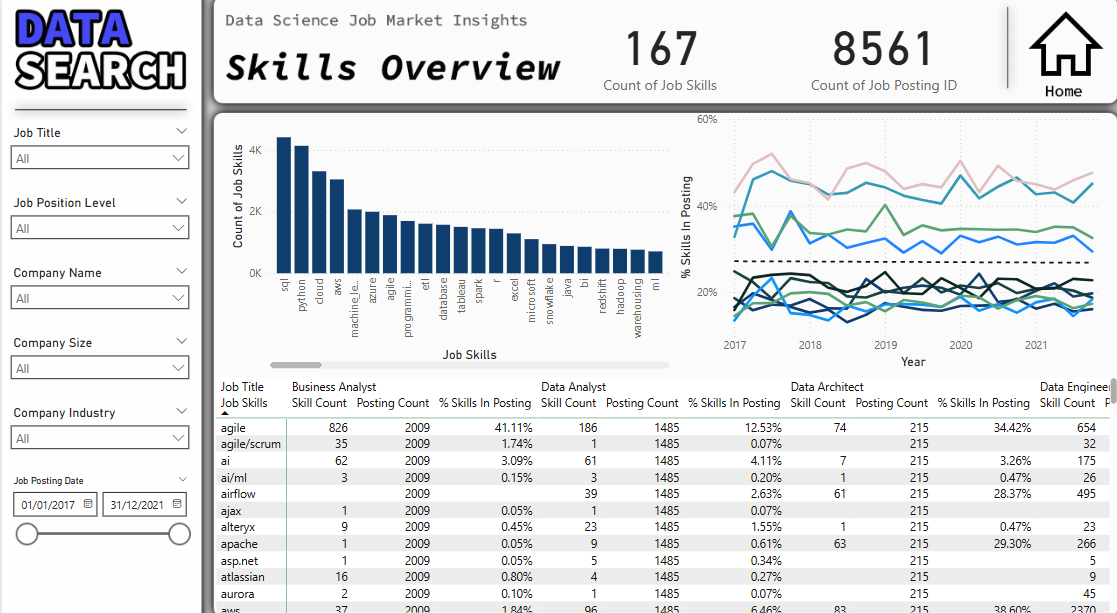

The page's visual inventory and layout, read from the dashboard file:
{"tool":"powerbi","page":{"name":"Skills","canvas":[1280,720],"ordinal":2},"visuals":[{"type":"slicer","fields":{"Values":["Job Postings.Job Title"]},"box":[0,144,224,80],"z":0},{"type":"slicer","fields":{"Values":["Job Postings.Job Position Level"]},"box":[0,224,224,80],"z":1},{"type":"slicer","fields":{"Values":["Job Postings.Company Name"]},"box":[0,304,224,80],"z":2},{"type":"slicer","fields":{"Values":["Job Postings.Company Size"]},"box":[0,384,224,80],"z":3},{"type":"slicer","fields":{"Values":["Job Postings.Company Industry"]},"box":[0,464,224,80],"z":4},{"type":"slicer","fields":{"Values":["Job Postings.Job Posting Date"]},"box":[0,544,224,112],"z":5},{"type":"columnChart","fields":{"Category":["Job Skills.Job Skills"],"Y":["CountNonNull(Job Skills.Job Skills)"]},"box":[256,128,512,304],"z":6},{"type":"lineChart","fields":{"Category":["Job Postings.Job Posting Date.Variation.Date Hierarchy.Year","Job Postings.Job Posting Date.Variation.Date Hierarchy.Quarter","Job Postings.Job Posting Date.Variation.Date Hierarchy.Month","Job Postings.Job Posting Date.Variation.Date Hierarchy.Day"],"Series":["Job Skills.Job Skills"],"Y":["_Measures.% Skills In Posting"]},"box":[768,128,496,304],"z":7},{"type":"pivotTable","fields":{"Rows":["Job Skills.Job Skills"],"Columns":["Job Postings.Job Title"],"Values":["_Measures.Skill Count","_Measures.Posting Count","_Measures.% Skills In Posting"]},"box":[240,432,1040,288],"z":8},{"type":"card","fields":{"Values":["Count(Job Skills.Job Skills)"]},"box":[624,0,256,128],"z":9},{"type":"card","fields":{"Values":["Count(Job Skills.Job Posting ID)"]},"box":[880,0,256,128],"z":10},{"type":"image","box":[1168,0,96,112],"z":11}]}

Visuals, with their boxes on the page's 1280x720 design canvas (x1, y1, x2, y2). These are canvas units, not pixel positions in the 1117x613 screenshot, which may show the page scaled, cropped or inside an application window:
slicer - Job Postings.Job Title: [0,144,224,224]
slicer - Job Postings.Job Position Level: [0,224,224,304]
slicer - Job Postings.Company Name: [0,304,224,384]
slicer - Job Postings.Company Size: [0,384,224,464]
slicer - Job Postings.Company Industry: [0,464,224,544]
slicer - Job Postings.Job Posting Date: [0,544,224,656]
columnChart - Job Skills.Job Skills x CountNonNull(Job Skills.Job Skills): [256,128,768,432]
lineChart - Job Postings.Job Posting Date.Variation.Date Hierarchy.Year x Job Postings.Job Posting Date.Variation.Date Hierarchy.Quarter: [768,128,1264,432]
pivotTable - Job Skills.Job Skills x Job Postings.Job Title: [240,432,1280,720]
card - Count(Job Skills.Job Skills): [624,0,880,128]
card - Count(Job Skills.Job Posting ID): [880,0,1136,128]
image: [1168,0,1264,112]
